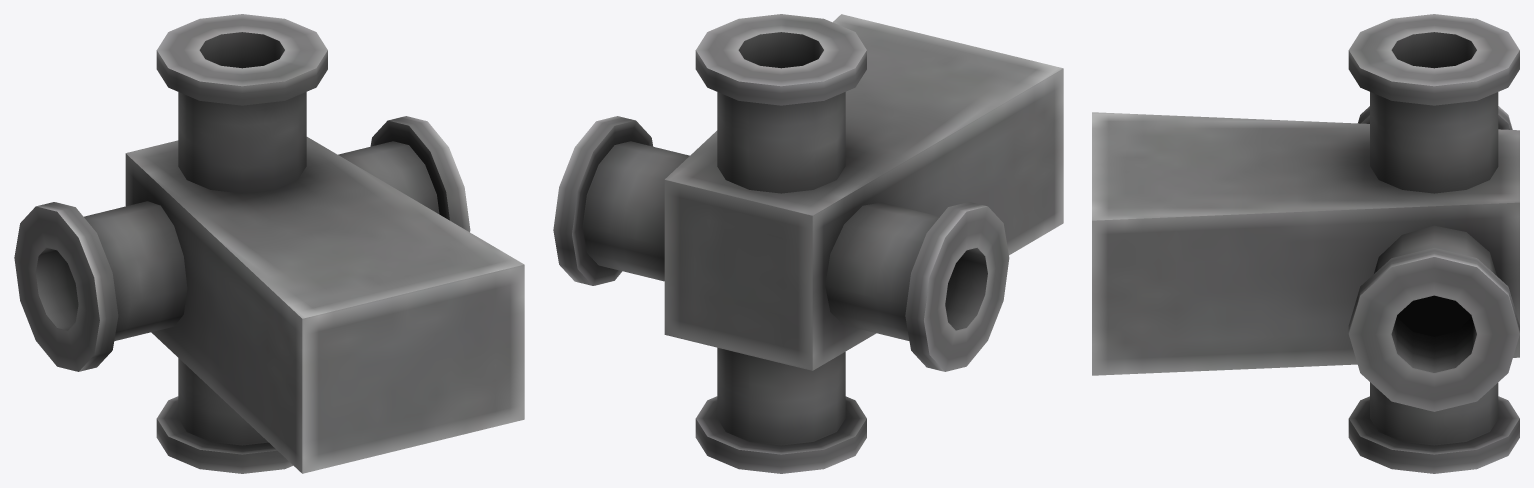
File: sp_rcs_srf_4.obj
3 views of the same model, side by side, from view 1: azimuth 30°, elevation 25°; view 2: azimuth 150°, elevation 25°; view 3: azimuth 270°, elevation 25° (orthographic).
Visible parts, largest first — view 1: mesh1; view 2: mesh1; view 3: mesh1.
Boxes of the visible parts, x1,y1,x2,y2 form: mesh1: (14,14,524,473); mesh1: (553,14,1063,473); mesh1: (1092,14,1519,473).
Size of the model in its own units: 0.125 by 0.125 by 0.125.
Materials: 1 (1 with a texture image).
